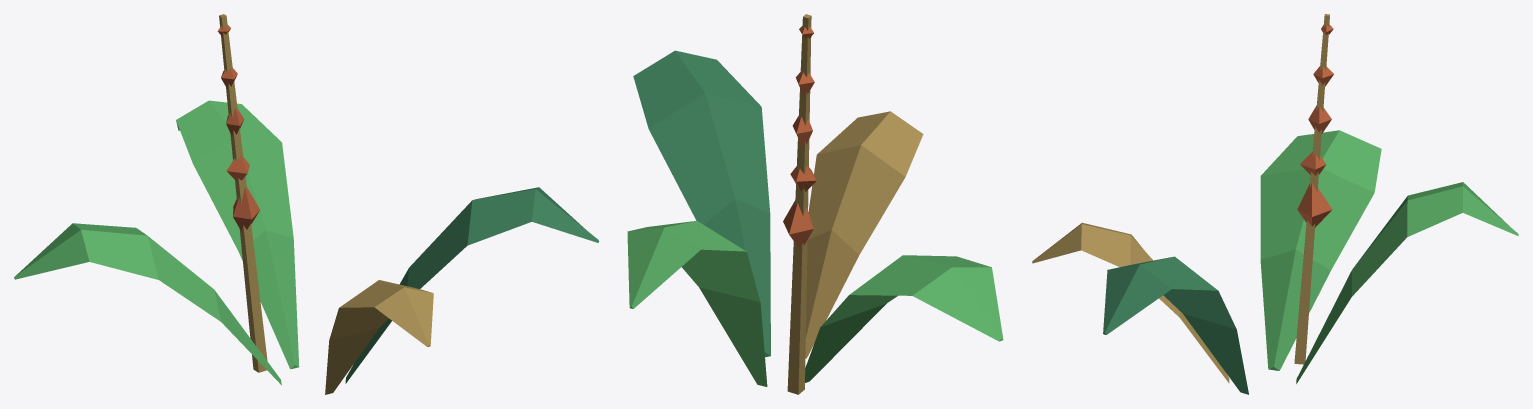
Rendered from plant_dock_c.glb.
The picture shows the model from 3 angles, left to right: view 1: azimuth 30°, elevation 25°; view 2: azimuth 150°, elevation 25°; view 3: azimuth 270°, elevation 25°; orthographic projection. The views are drawn at different scales.
Parts seen in each view (by area): view 1: PlantDockC; view 2: PlantDockC; view 3: PlantDockC.
Boxes of the visible parts, bbox=[...] form: PlantDockC: bbox=[14, 14, 598, 394]; PlantDockC: bbox=[627, 14, 1003, 394]; PlantDockC: bbox=[1032, 14, 1518, 394].
Bounding box in the file's own units: 1.39 × 1.04 × 1.34.
